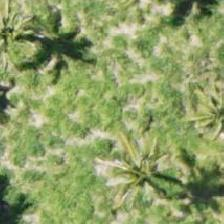coconut_tree: (107, 129, 197, 219), (174, 65, 223, 155), (0, 0, 54, 67)
